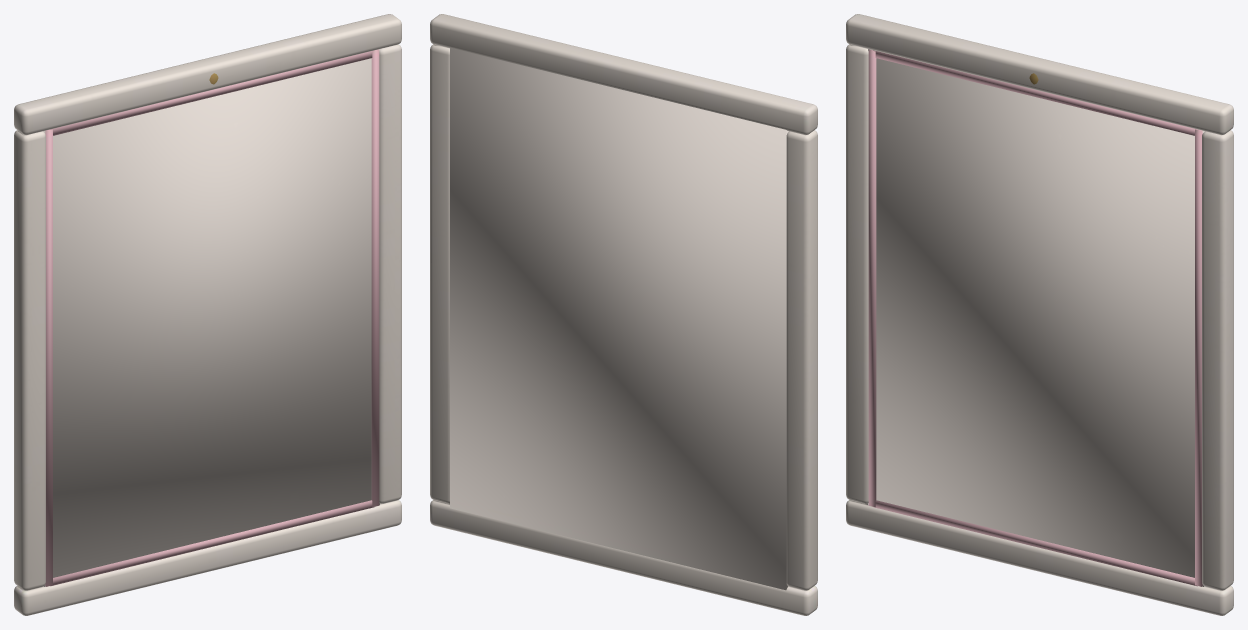
File: trumua-wall-frame-small.glb
3 views of the same model, side by side, from view 1: azimuth 30°, elevation 25°; view 2: azimuth 150°, elevation 25°; view 3: azimuth 330°, elevation 25° (orthographic).
Parts seen in each view (by area): view 1: trumua-wall-frame-small; view 2: trumua-wall-frame-small; view 3: trumua-wall-frame-small.
Boxes of the visible parts, left/top/right/bottom form: trumua-wall-frame-small: left=14, top=14, right=401, bottom=615; trumua-wall-frame-small: left=430, top=14, right=817, bottom=615; trumua-wall-frame-small: left=846, top=14, right=1233, bottom=615.
Bounding box in the file's own units: 0.55 × 0.7 × 0.031.
1 material, 1 textured.
